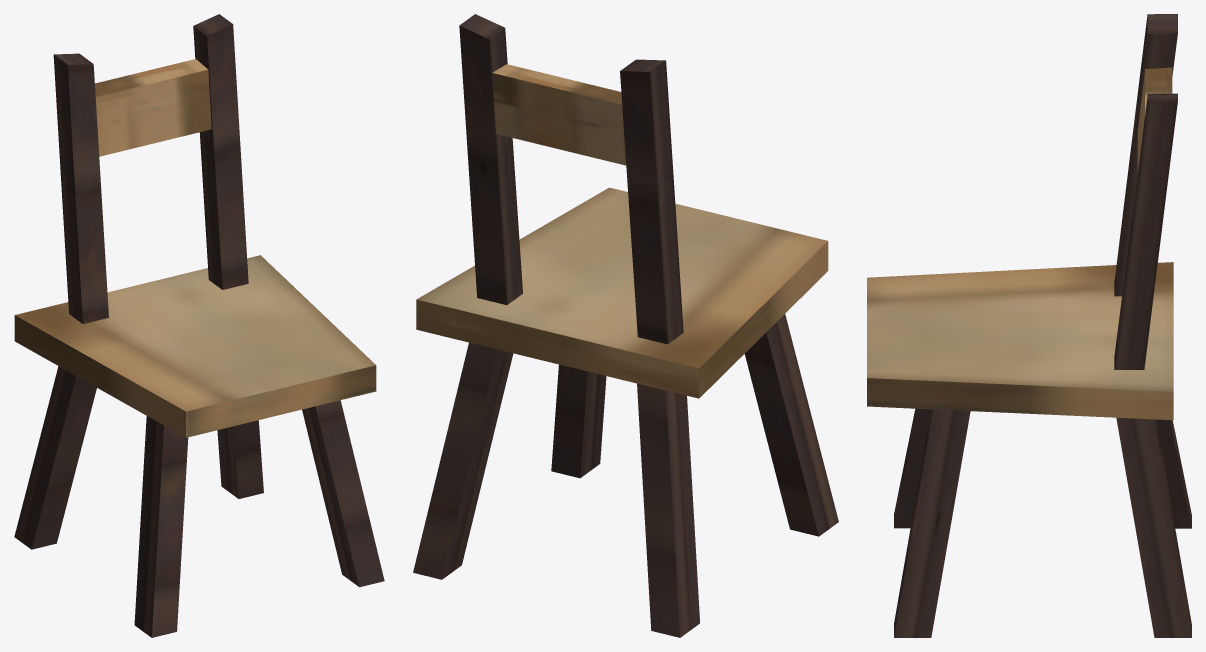
The model's file is the chair2.fbx.
The picture shows the model from 3 angles, left to right: view 1: azimuth 30°, elevation 25°; view 2: azimuth 150°, elevation 25°; view 3: azimuth 270°, elevation 25°; orthographic projection. The views are drawn at different scales.
Visible parts, largest first — view 1: Cube.002; view 2: Cube.002; view 3: Cube.002.
Part boxes in pixels (x1,y1,x2,y2): Cube.002: (14, 14, 384, 637); Cube.002: (413, 14, 838, 637); Cube.002: (867, 14, 1191, 637).
Bounding box in the file's own units: 49.31 × 91.86 × 52.16.
